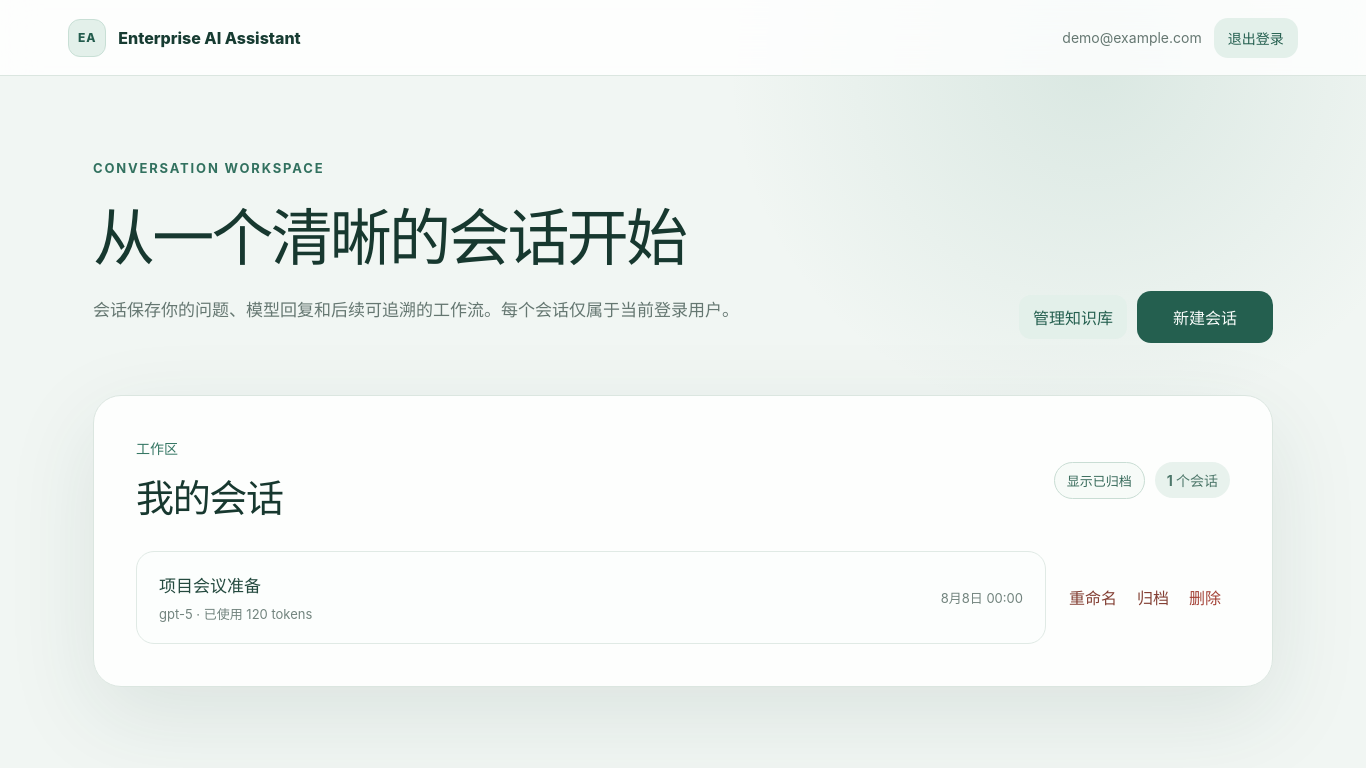
it: HomeView › 归档会话后从默认列表移除该会话
Click the button with test id "archive-conversation-conversation-1".
click(1153, 597)  # box [1128, 578, 1178, 616]
(page scrolled)
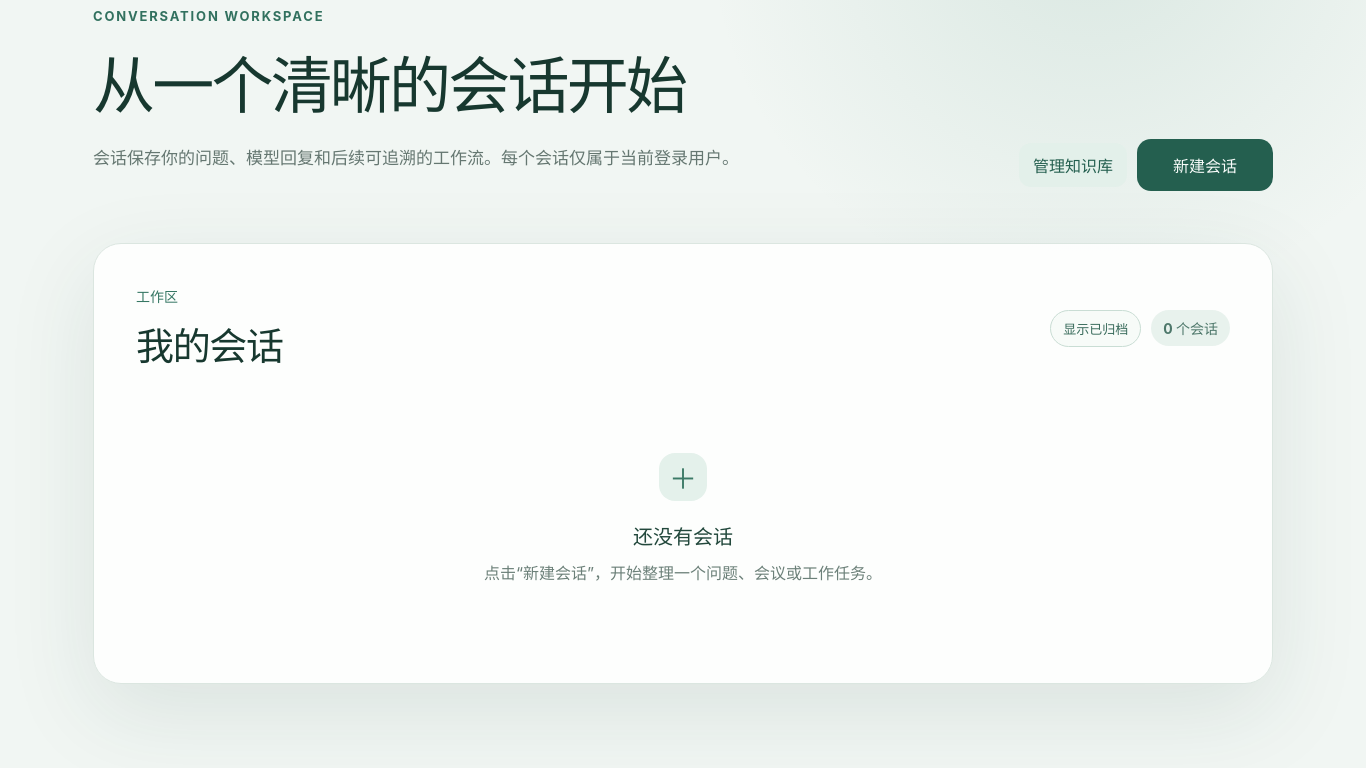
Check: the element with test id "empty-state" shows "还没有会话", box [633, 525, 733, 549]
